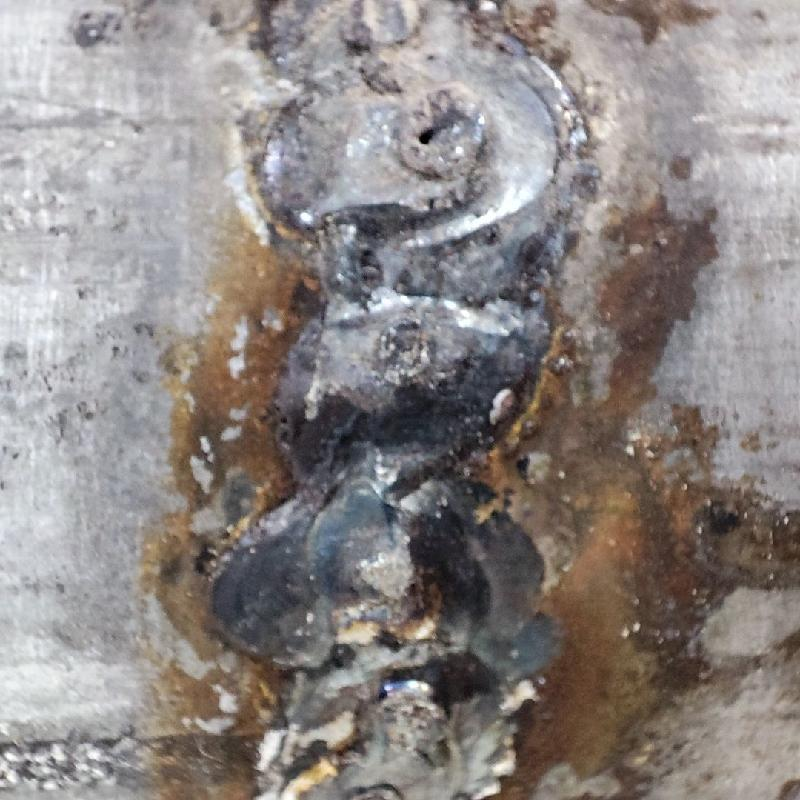Not_fully_soldered: (238, 1, 577, 310)
Surface_pores: (398, 107, 472, 174)
wrong_size: (237, 314, 528, 789)
